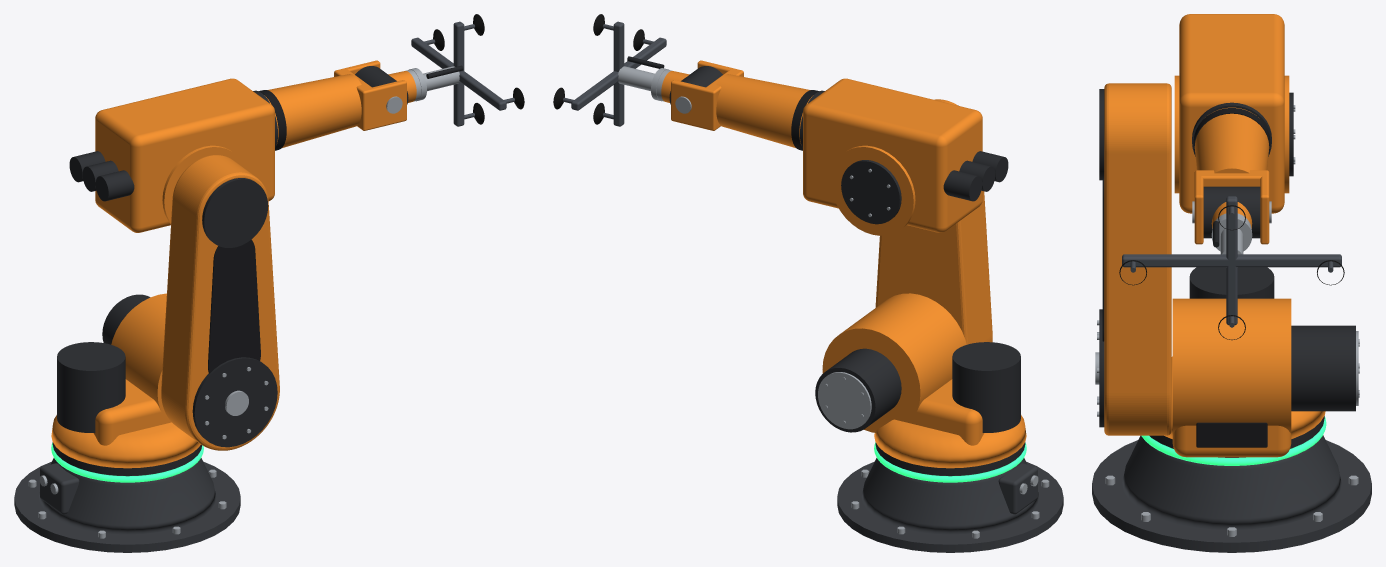
Rendered from robot_stamping.glb.
The picture shows the model from 3 angles, left to right: view 1: azimuth 30°, elevation 25°; view 2: azimuth 150°, elevation 25°; view 3: azimuth 270°, elevation 25°; orthographic projection. The views are drawn at different scales.
Visible parts, largest first — view 1: Link3_body, Pedestal_base, Link2_body, Link1_body, Link2_joint, Link4_body, Link1_joint, Link2_accent, VacuumTool_tool, Link3_joint, Pedestal_joint, StatusRing (+3 smaller); view 2: Link3_body, Link1_body, Pedestal_base, Link2_body, Link1_joint, Link4_body, Link3_joint, Link1_steel, VacuumTool_tool, Pedestal_joint, StatusRing, VacuumTool_steel (+1 smaller); view 3: Link2_body, Pedestal_base, Link1_body, Link3_body, Link1_joint, Link4_body, VacuumTool_tool, Link1_accent, Link5_joint, StatusRing, Link2_joint, VacuumTool_steel (+7 smaller).
Boxes of the visible parts, left/top/right/bottom form: Link3_body: left=95, top=78, right=274, bottom=232; Pedestal_base: left=14, top=458, right=240, bottom=552; Link2_body: left=161, top=155, right=279, bottom=450; Link1_body: left=51, top=293, right=200, bottom=468; Link2_joint: left=192, top=178, right=277, bottom=447; Link4_body: left=264, top=60, right=406, bottom=147; Link1_joint: left=57, top=294, right=150, bottom=432; Link2_accent: left=208, top=239, right=260, bottom=373; VacuumTool_tool: left=411, top=21, right=514, bottom=126; Link3_joint: left=69, top=151, right=134, bottom=201; Pedestal_joint: left=52, top=442, right=201, bottom=475; StatusRing: left=51, top=443, right=203, bottom=482; Link3_body: left=803, top=78, right=982, bottom=235; Link1_body: left=822, top=293, right=1026, bottom=468; Pedestal_base: left=837, top=458, right=1063, bottom=552; Link2_body: left=875, top=99, right=992, bottom=344; Link1_joint: left=815, top=342, right=1020, bottom=432; Link4_body: left=671, top=60, right=813, bottom=147; Link3_joint: left=841, top=151, right=1008, bottom=224; Link1_steel: left=818, top=372, right=871, bottom=429; VacuumTool_tool: left=563, top=21, right=666, bottom=126; Pedestal_joint: left=875, top=442, right=1025, bottom=475; StatusRing: left=874, top=442, right=1026, bottom=482; VacuumTool_steel: left=618, top=66, right=668, bottom=101; Link2_body: left=1104, top=83, right=1171, bottom=435; Pedestal_base: left=1092, top=435, right=1371, bottom=552; Link1_body: left=1164, top=298, right=1325, bottom=457; Link3_body: left=1174, top=14, right=1289, bottom=213; Link1_joint: left=1189, top=267, right=1355, bottom=411; Link4_body: left=1194, top=107, right=1269, bottom=244; VacuumTool_tool: left=1122, top=196, right=1341, bottom=327; Link1_accent: left=1196, top=422, right=1267, bottom=447; Link5_joint: left=1203, top=186, right=1260, bottom=238; StatusRing: left=1141, top=416, right=1326, bottom=465; Link2_joint: left=1099, top=89, right=1104, bottom=427; VacuumTool_steel: left=1211, top=216, right=1252, bottom=254.
Size of the model in its own units: 2.86 by 2.46 by 1.25.
